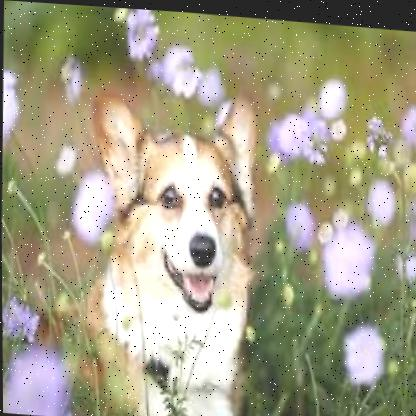dog: (84, 76, 275, 416)
